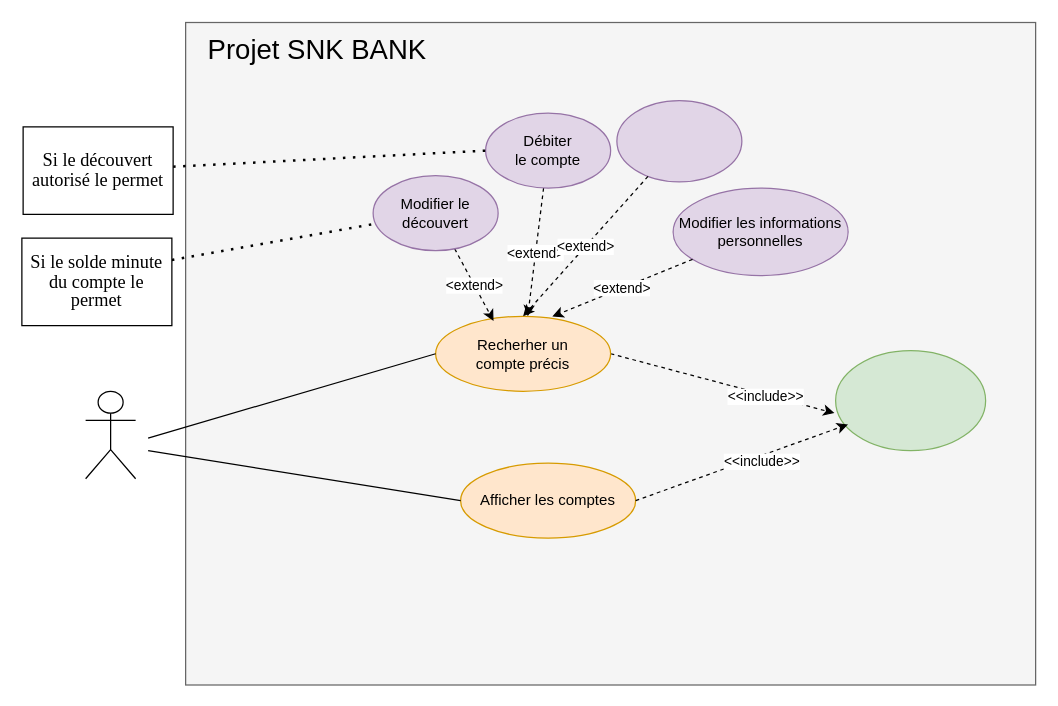
The diagram is 1058 pixels wide and 706 high, and some of its shapes have lost their labels. The box of each missing label's shape, as (x1, y1, x2, y2) in pixels:
Authentification: (834, 349, 986, 451)
Chargé Clientèle Bancaire: (84, 390, 136, 479)
Créditer le compte: (616, 99, 742, 182)
